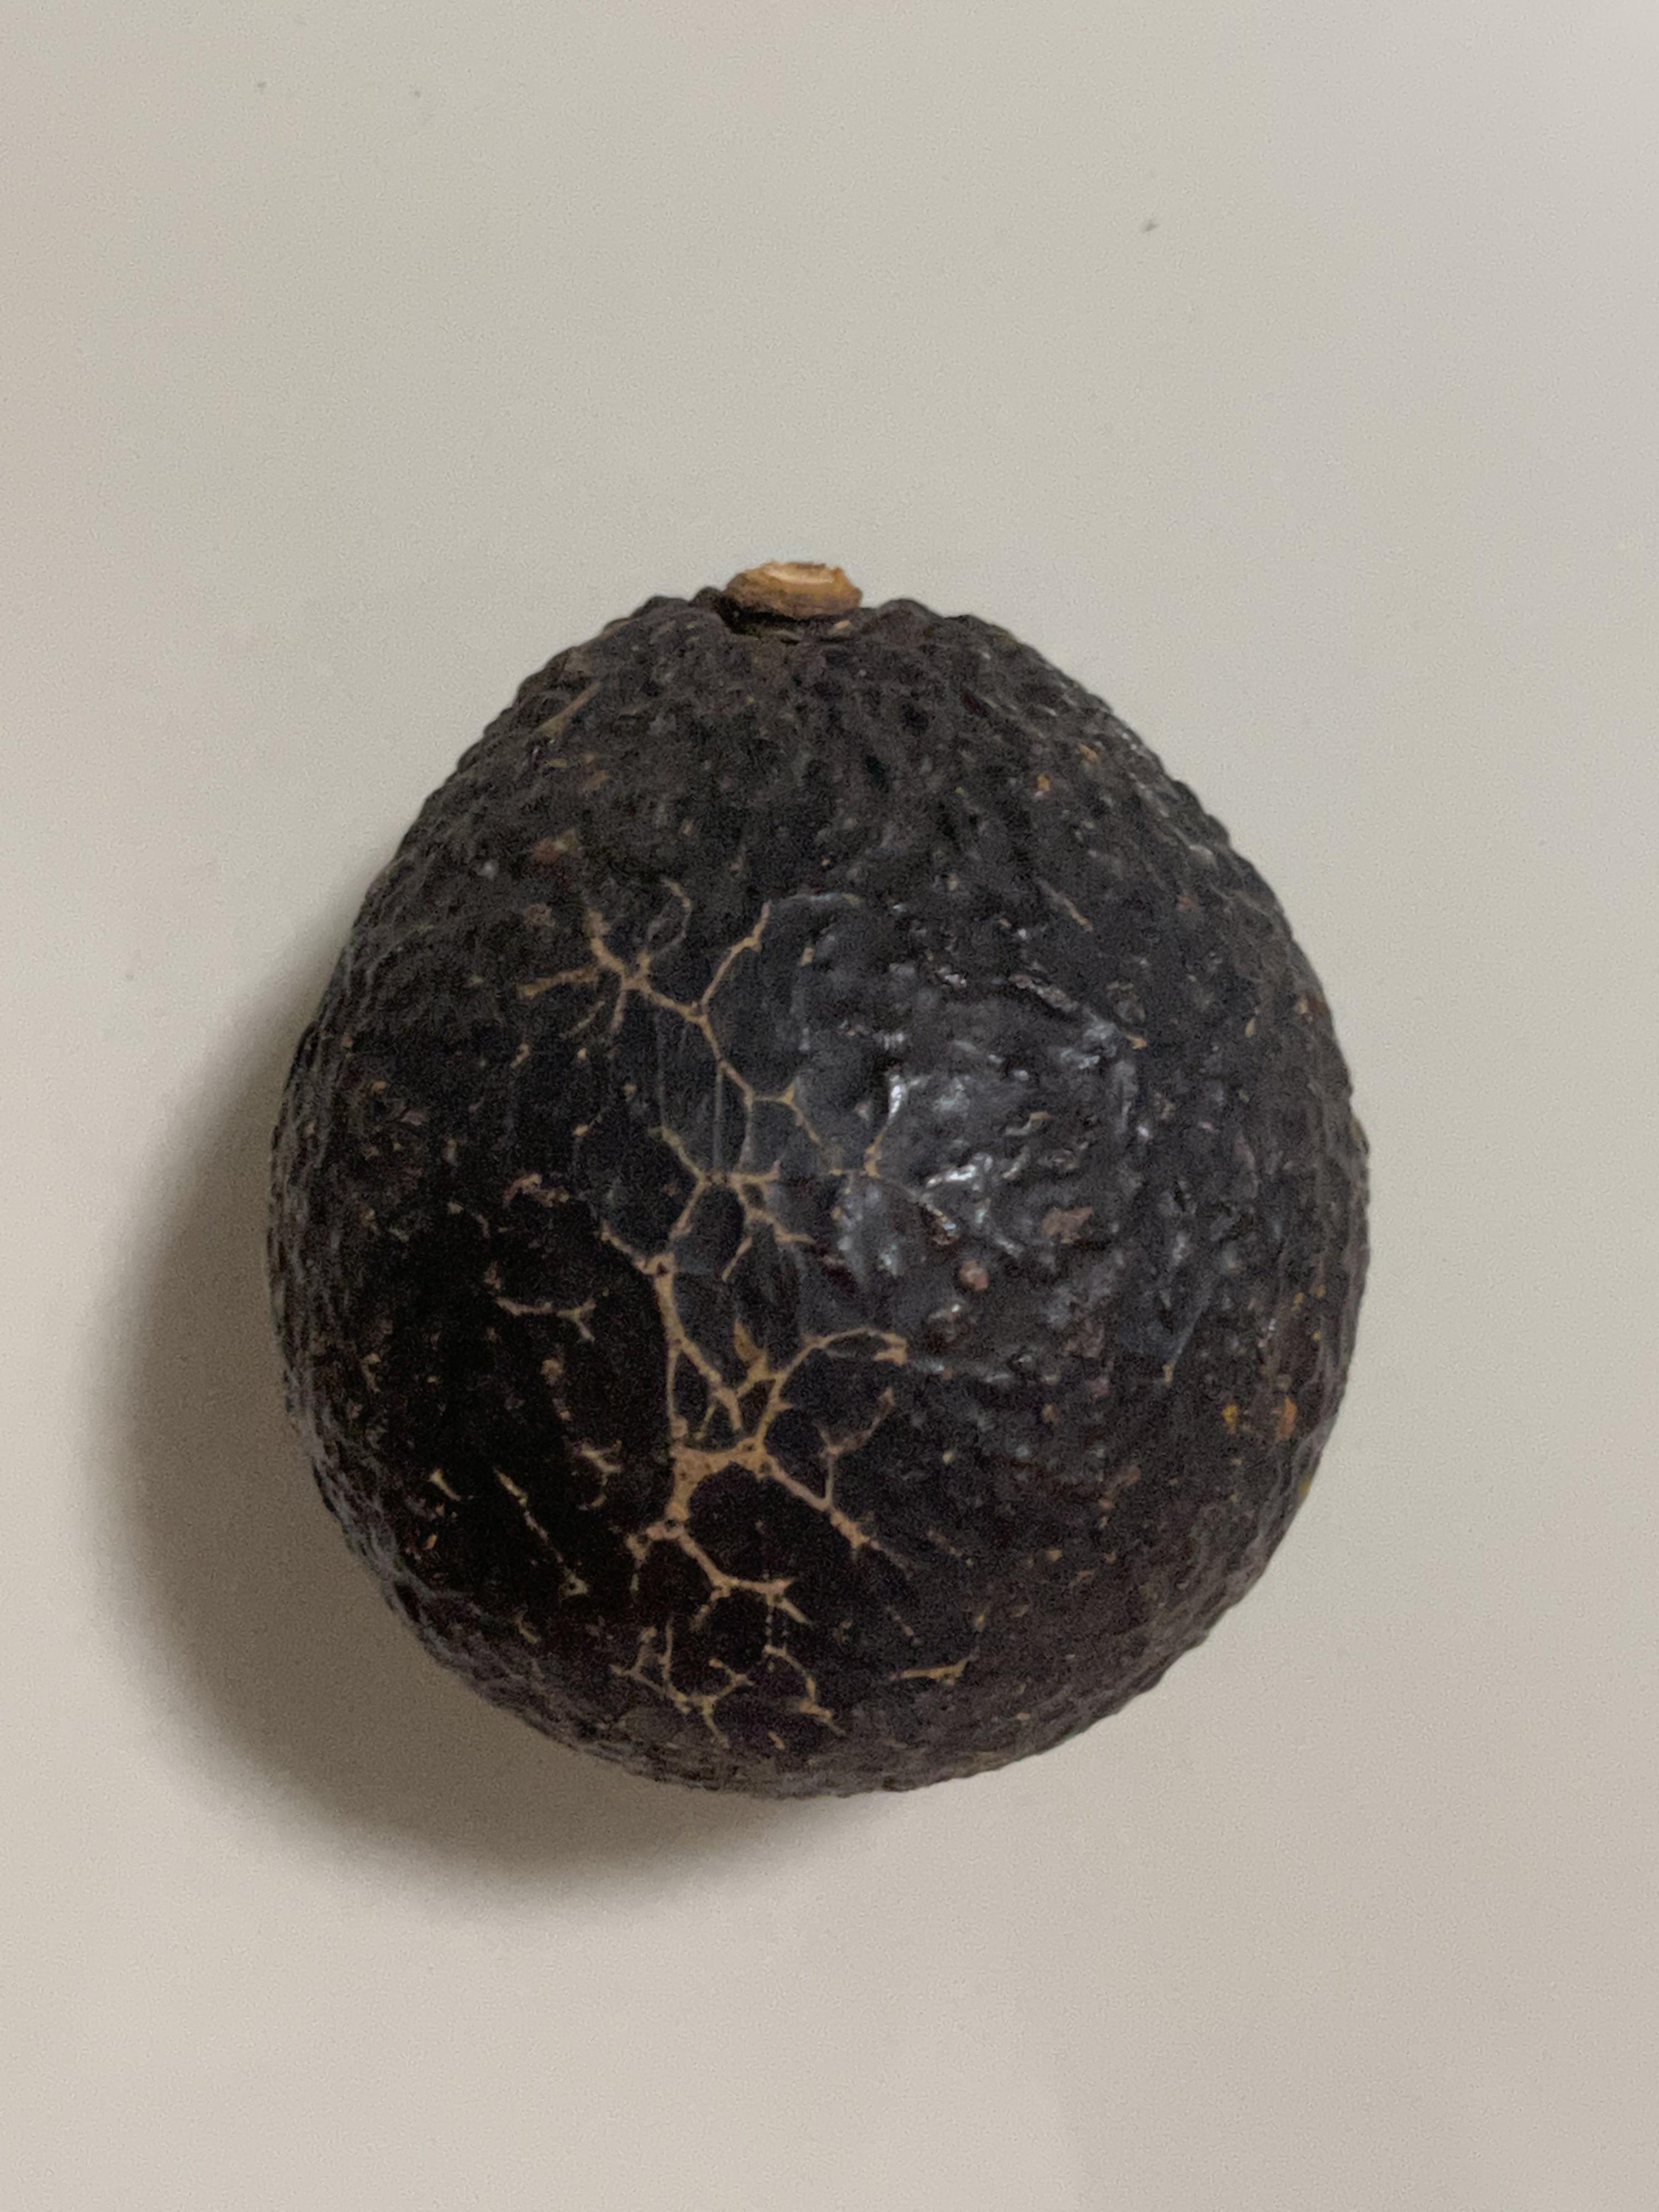Level3: (235, 526, 1399, 1827)
